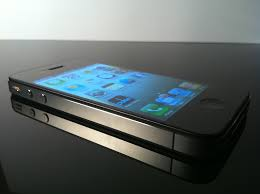iphone4: (7, 52, 252, 161)
